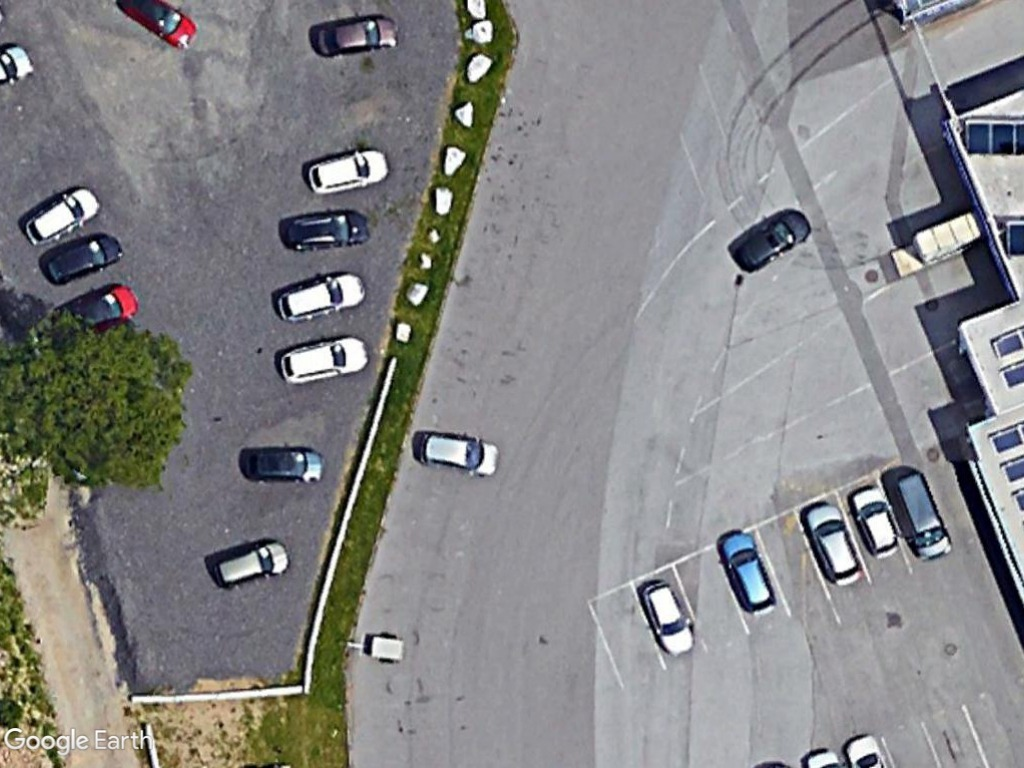car: (724, 201, 813, 277), (797, 497, 864, 592), (271, 265, 371, 328), (712, 528, 781, 619), (273, 332, 375, 391), (39, 223, 125, 290), (633, 572, 699, 658), (20, 183, 103, 251), (207, 532, 292, 595), (232, 438, 330, 490), (411, 426, 505, 480), (303, 143, 392, 200), (279, 205, 375, 256), (309, 10, 403, 61), (845, 484, 904, 562)
van: (889, 464, 956, 567)
